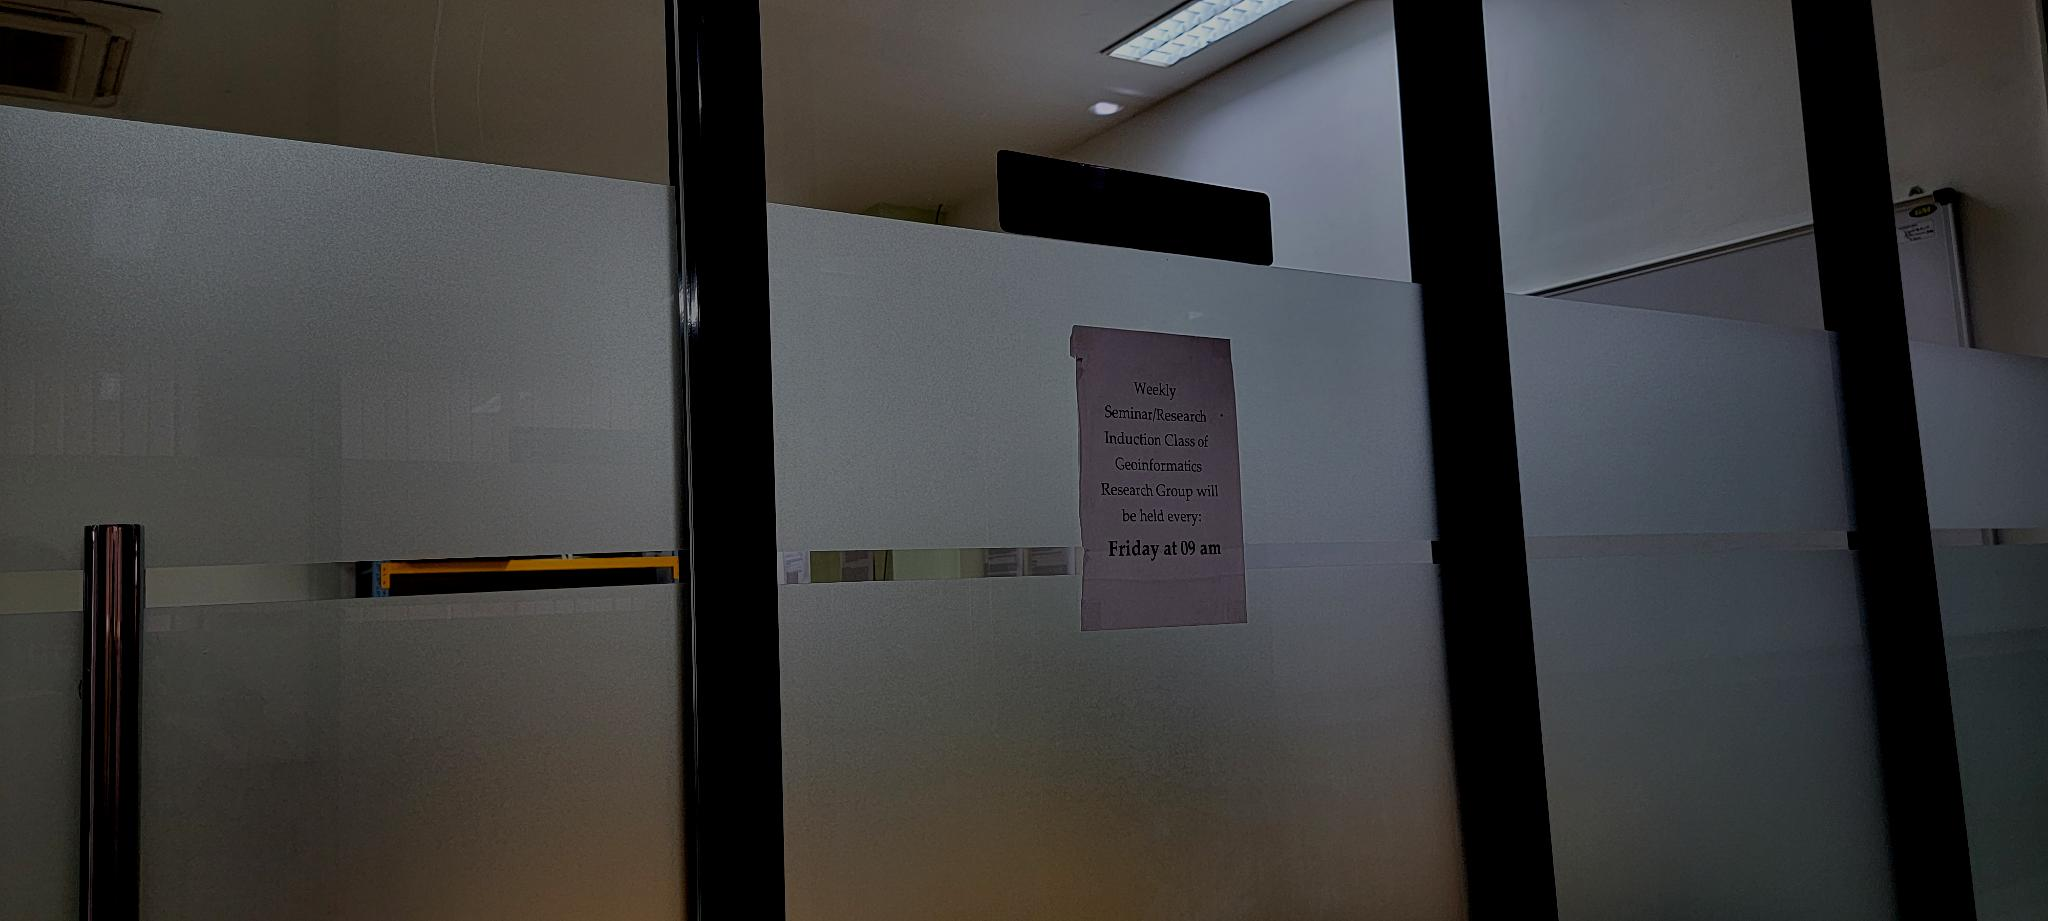plate: (997, 146, 1275, 268)
